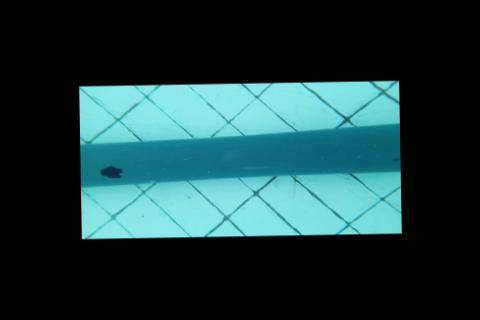kebocoran: (99, 164, 123, 178)
